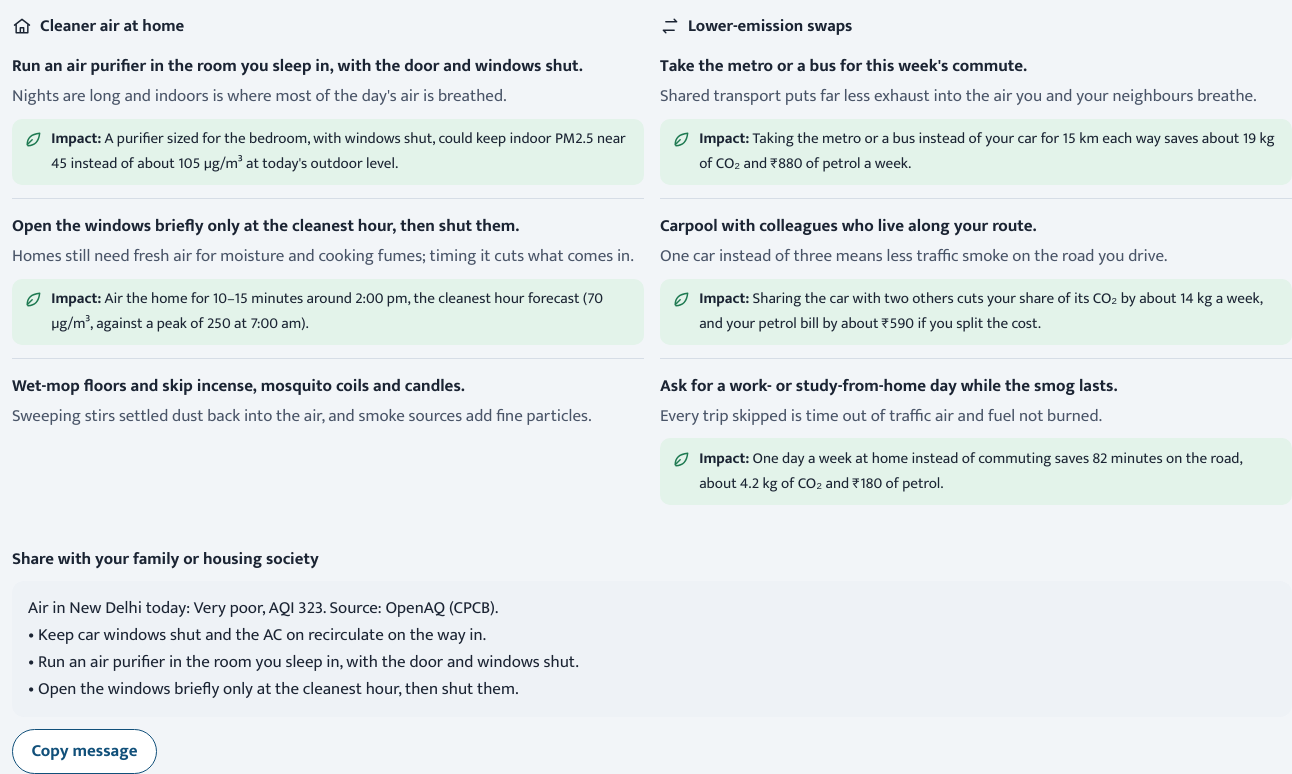
it: PlanPanel › copies the share message, or explains when copying isn't allowed
(page scrolled)
Click the button "Copy message" at (84, 752), box [12, 729, 157, 773]
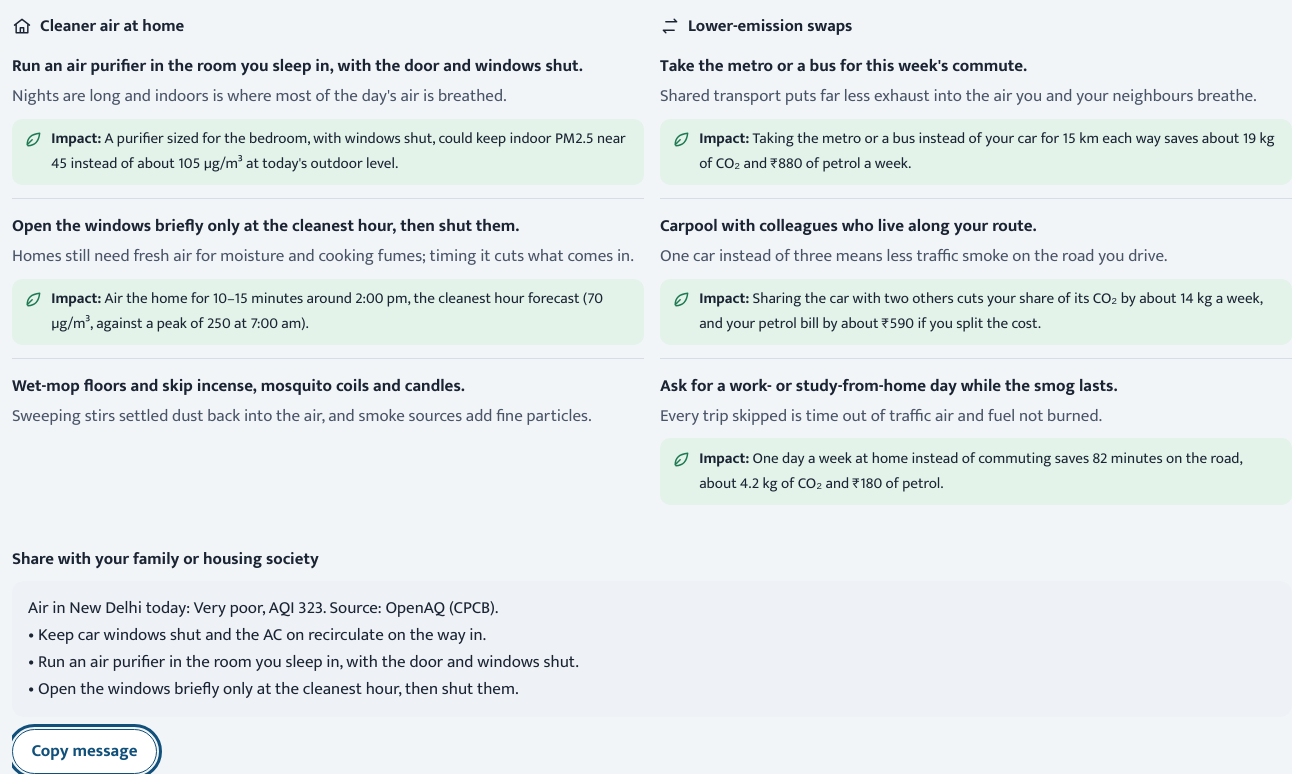
Click the button "Copy message" at (84, 752), box [12, 729, 157, 773]
(page scrolled)
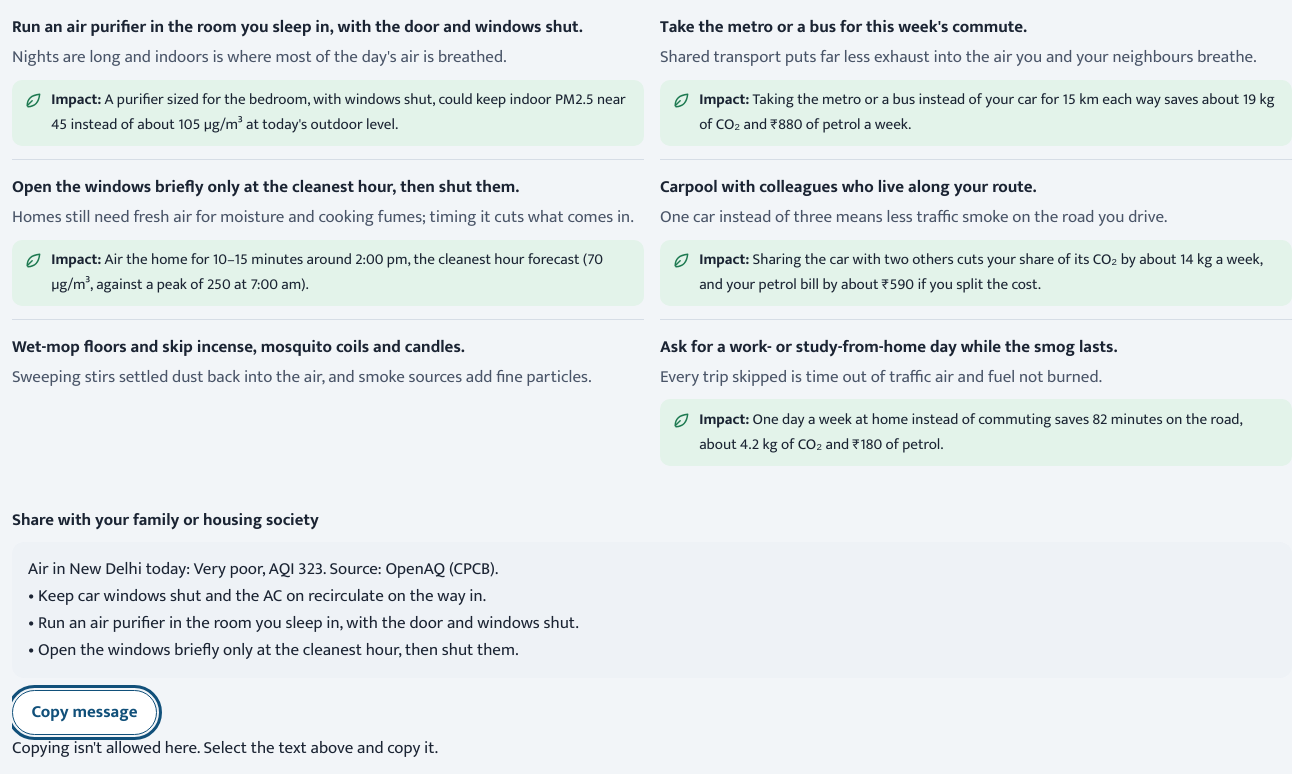
Expected: the text "Copying isn't allowed here. Select the text above and copy it." is shown, [12, 734, 438, 762]
